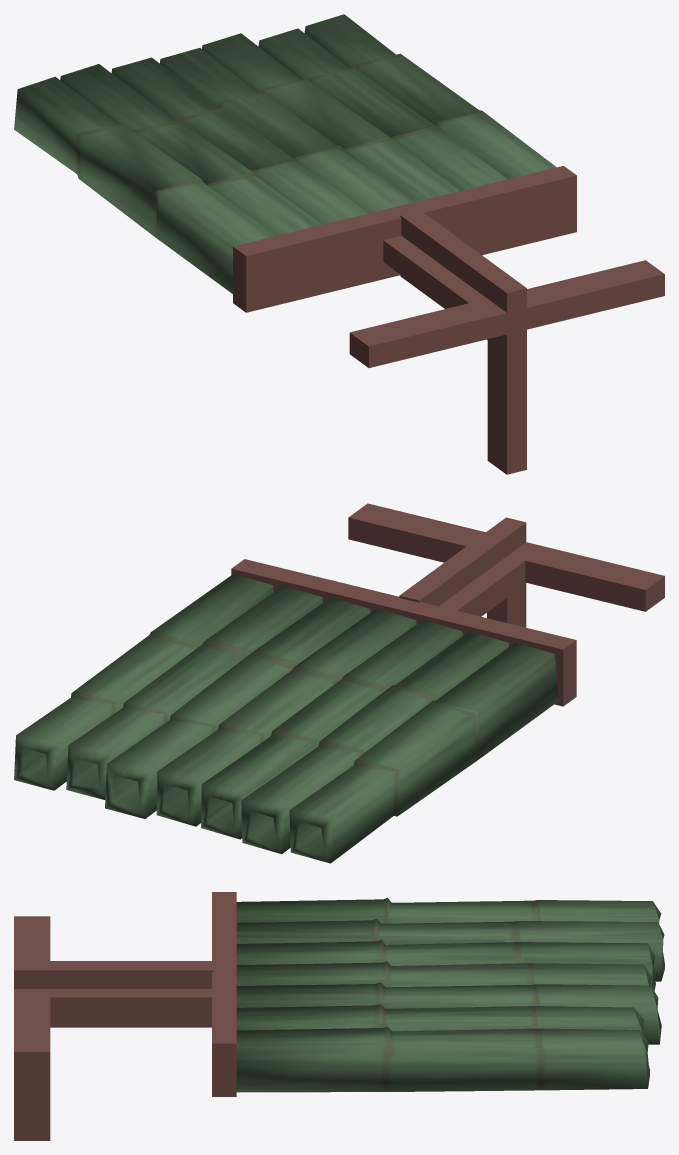
The model's file is bamboo_mid_7.glb.
The picture shows the model from 3 angles, top to bottom: view 1: azimuth 30°, elevation 25°; view 2: azimuth 150°, elevation 25°; view 3: azimuth 270°, elevation 25°; orthographic projection. The views are drawn at different scales.
Visible parts, largest first — view 1: Obstacledd, Stand; view 2: Obstacledd, Stand; view 3: Obstacledd, Stand.
Part boxes in pixels (left/top/right/bottom): Obstacledd: left=14, top=14, right=556, bottom=293; Stand: left=233, top=166, right=664, bottom=474; Obstacledd: left=14, top=573, right=558, bottom=863; Stand: left=231, top=503, right=664, bottom=706; Obstacledd: left=236, top=897, right=664, bottom=1092; Stand: left=14, top=892, right=236, bottom=1140.
Size of the model in its own units: 1.45 by 0.7591 by 2.63.
Materials: 2 (1 with a texture image).
